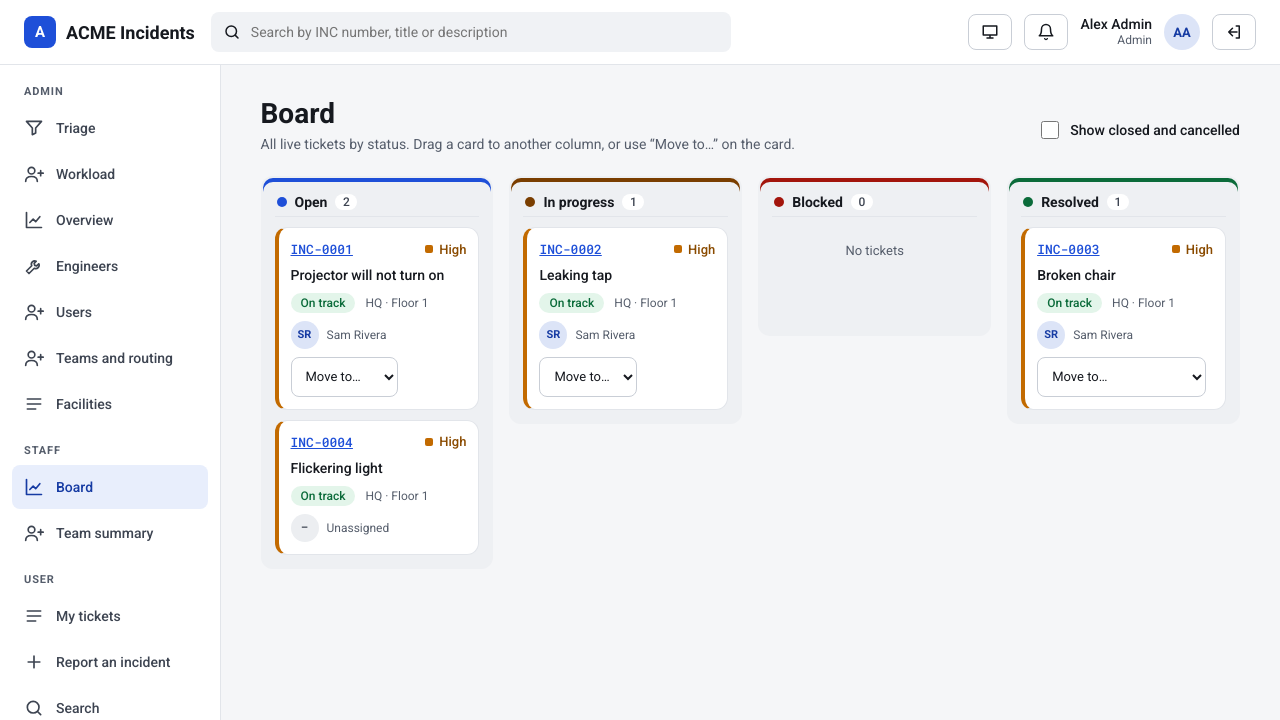
Test case: "Move to" menu › posts the transition with If-Match
This screenshot has width=1280, height=720.
Expected: the link "INC-0001" is shown, 290,240 -> 353,258
Select "In progress" in the dropdown named "Move INC-0001 to" below "INC-0001": (344, 377) 290,357 -> 398,397
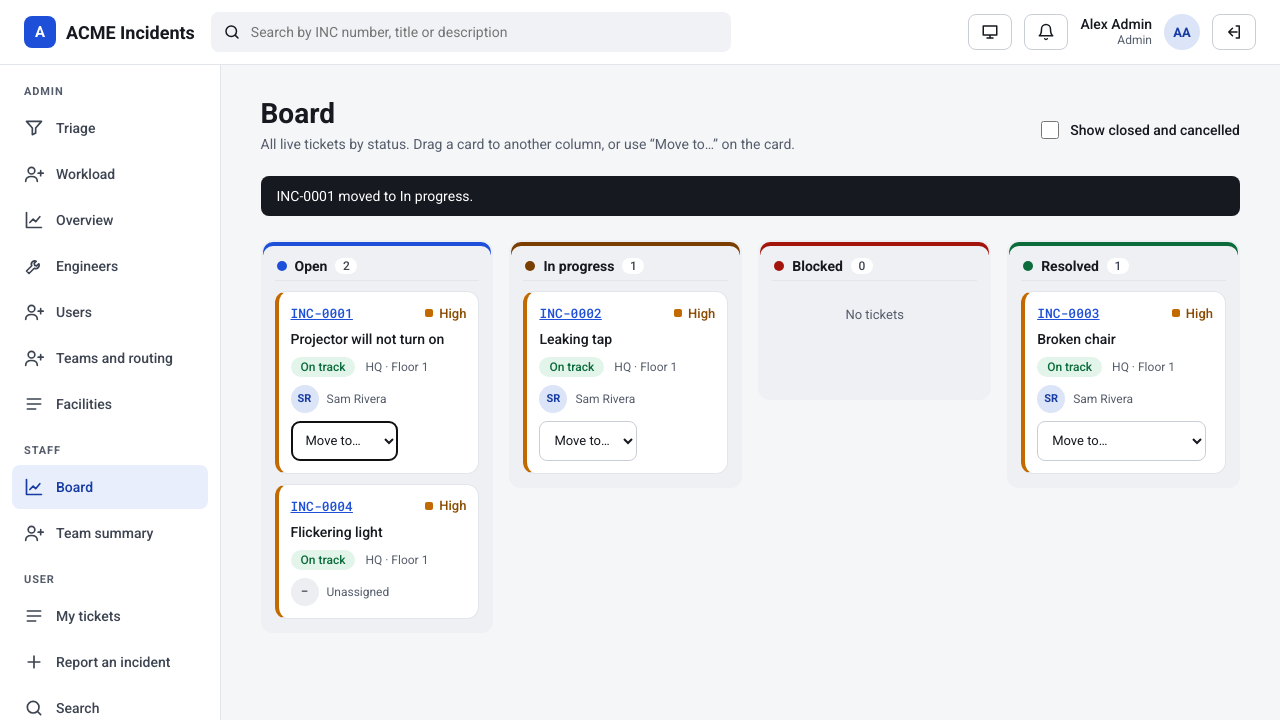
Expected: the text "INC-0001 moved to In progress." is shown, 260,176 -> 1240,216
